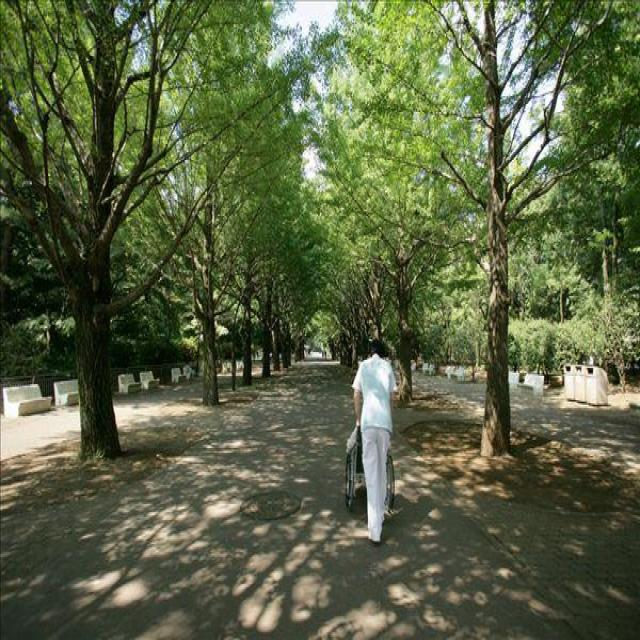wheelchairs: (341, 418, 398, 520)
